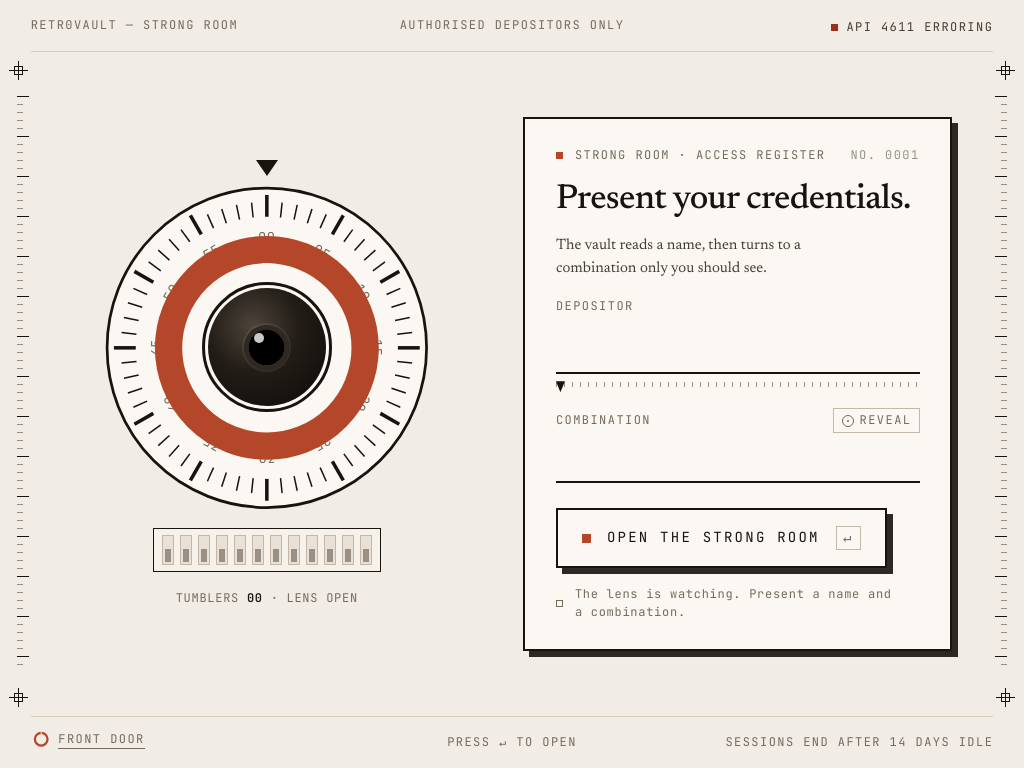
Test: the strong room › stamps a wrong combination denied, says so, and wipes it
Type "Krenuja" into the field labelled "Depositor" at coordinates (738, 349), box left=556, top=324, right=920, bottom=374
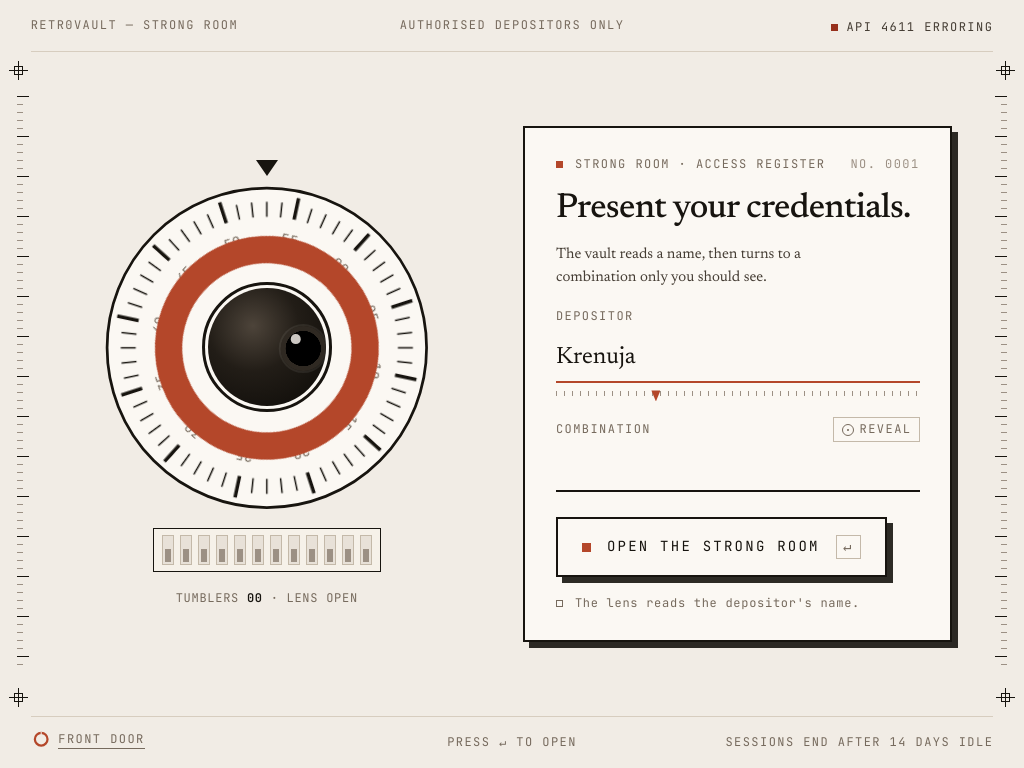
Type "wrong" into the password field labelled "Combination" at coordinates (738, 472), box left=556, top=451, right=920, bottom=492
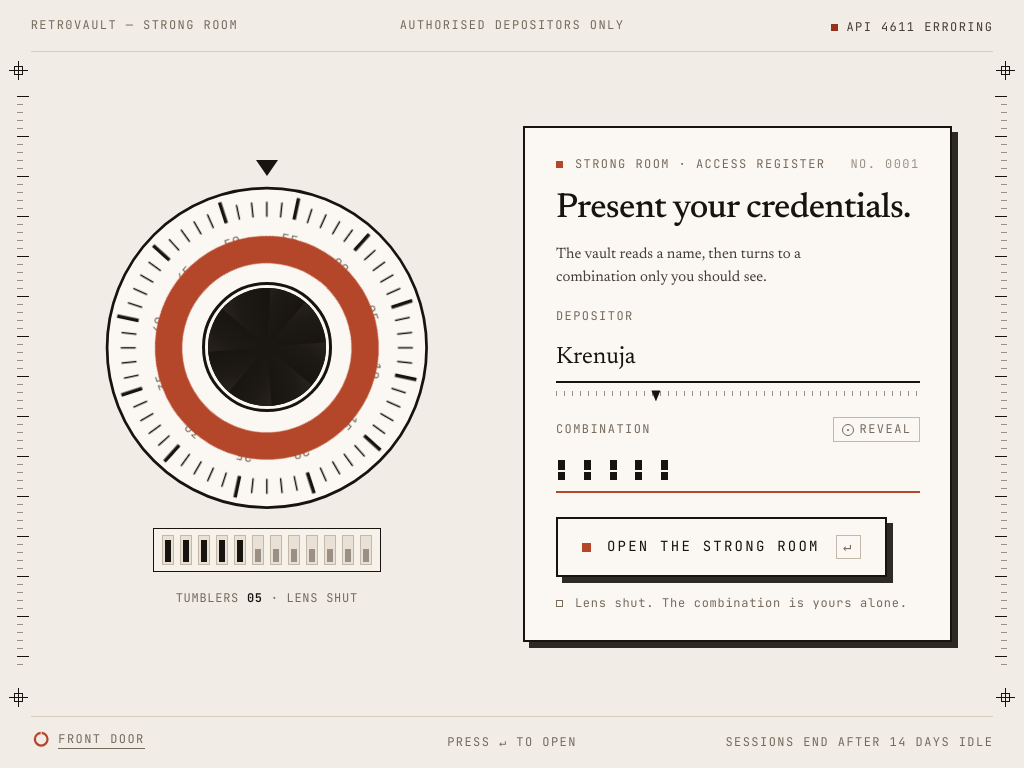
Click the button "Open the strong room ↵" at coordinates (721, 547), box left=556, top=518, right=887, bottom=577
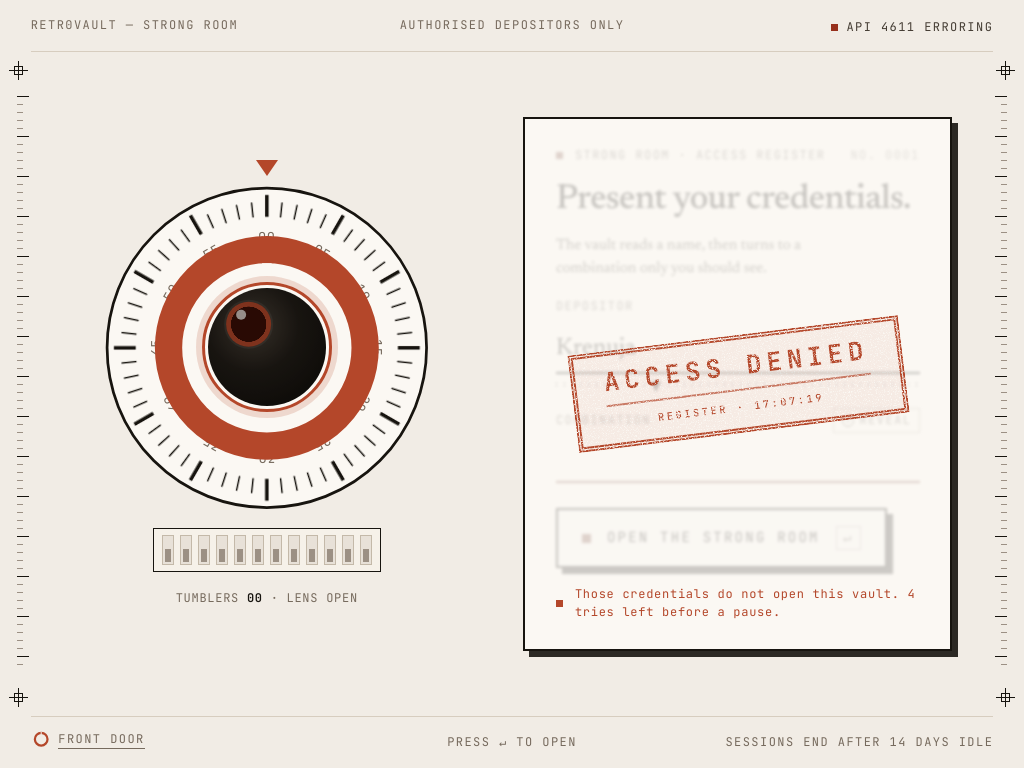
Check: the message "Those credentials do not open this vault. 4 tries left before a pause." is shown, box left=556, top=585, right=920, bottom=622
Check: the form shows "access denied", box left=601, top=333, right=870, bottom=399
Check: the password field labelled "Combination" is empty, box left=556, top=441, right=920, bottom=483
